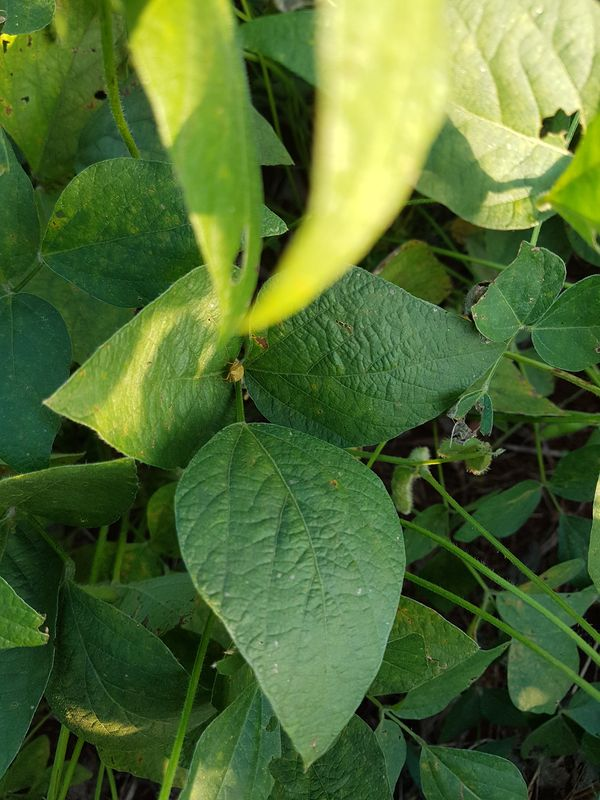Euschistus_heros_ninfa: (217, 354, 250, 389)
